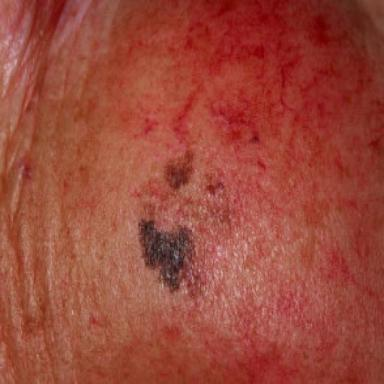Melanoma: (134, 148, 235, 306)
